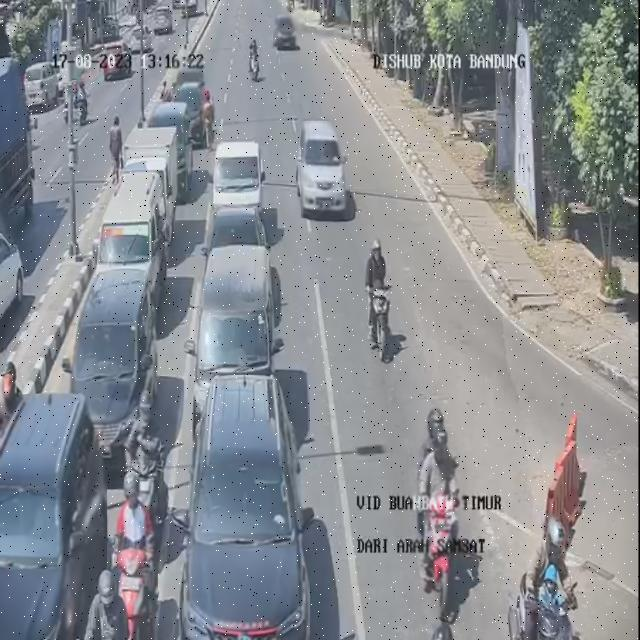cars: (184, 373, 310, 640), (0, 395, 107, 639), (66, 270, 160, 460), (191, 246, 283, 435), (96, 169, 170, 309), (126, 124, 184, 234), (208, 141, 262, 240), (301, 121, 350, 218), (150, 102, 189, 167), (172, 58, 207, 128), (273, 8, 298, 46)
motorcycle: (411, 400, 466, 617), (522, 521, 581, 640), (118, 483, 158, 640), (360, 237, 394, 357), (84, 567, 132, 640), (248, 37, 264, 86)
